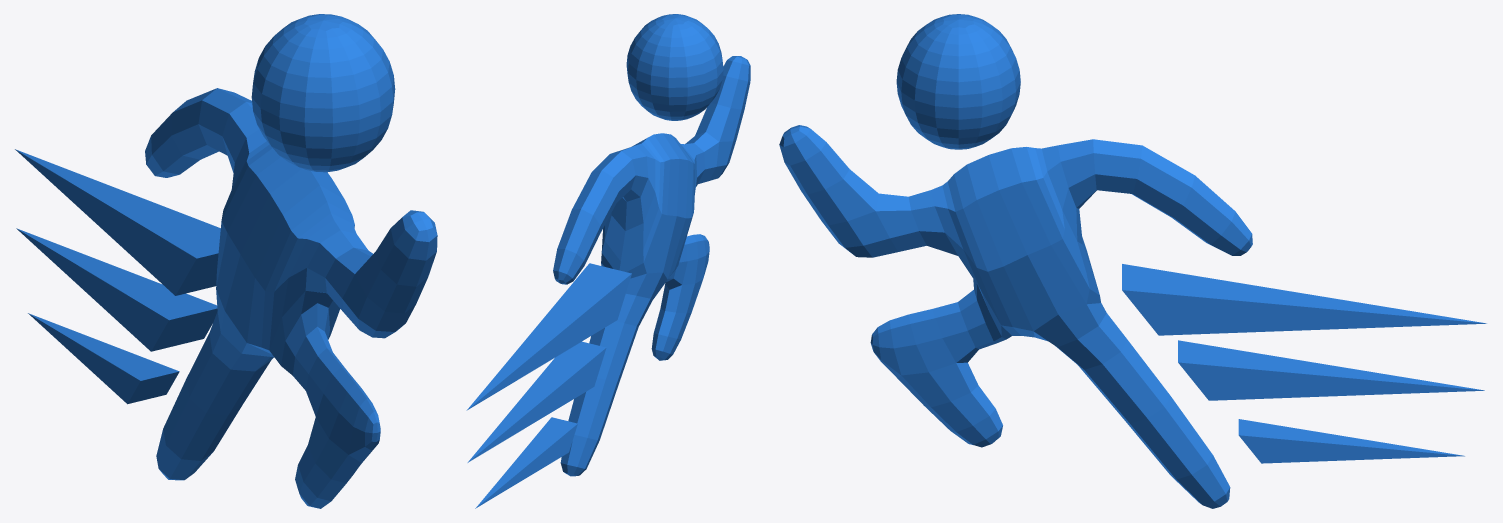
File: DashIcon.fbx
3 renders of one model, left to right at view 1: azimuth 30°, elevation 25°; view 2: azimuth 150°, elevation 25°; view 3: azimuth 270°, elevation 25°, orthographic. The views are drawn at different scales.
Parts seen in each view (by area): view 1: Cube, Cube.001; view 2: Cube, Cube.001; view 3: Cube, Cube.001.
Boxes of the visible parts, box(x1,y1,x2,y2) form: Cube: box(145, 14, 437, 508); Cube.001: box(15, 149, 220, 404); Cube: box(553, 14, 750, 476); Cube.001: box(466, 263, 631, 508); Cube: box(779, 14, 1252, 508); Cube.001: box(1122, 264, 1486, 463).
Size of the model in its own units: 66.16 by 286 by 378.
